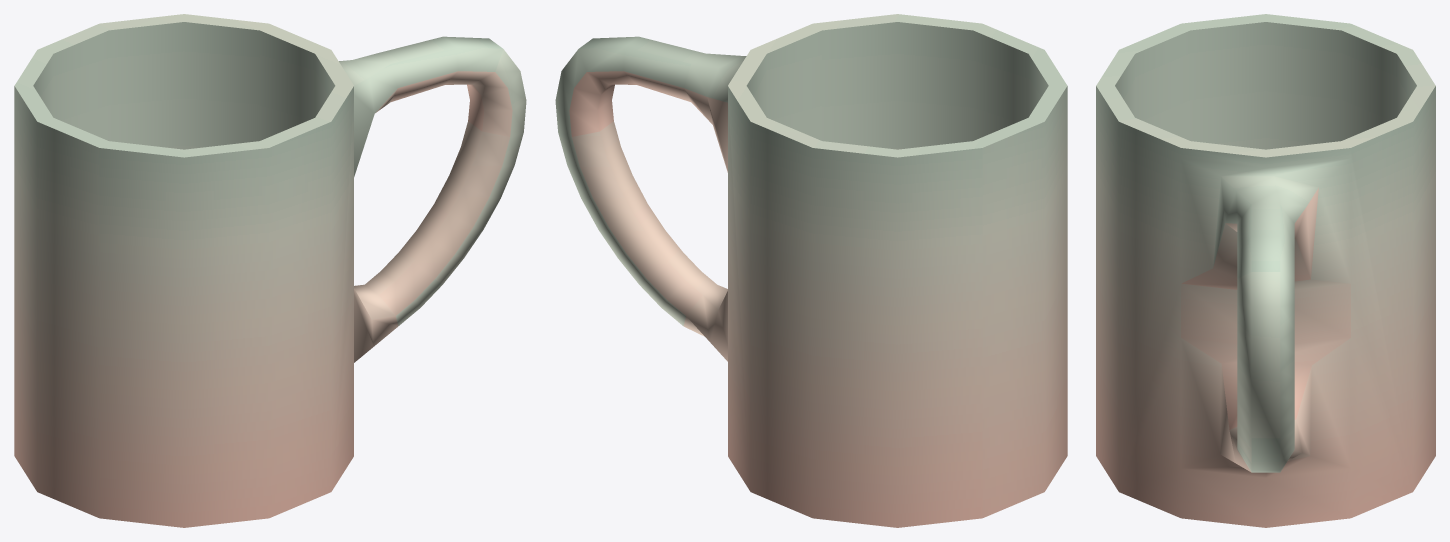
File: mug.glb
3 renders of one model, left to right at view 1: azimuth 30°, elevation 25°; view 2: azimuth 150°, elevation 25°; view 3: azimuth 270°, elevation 25°, orthographic.
Parts seen in each view (by area): view 1: Mug.001; view 2: Mug.001; view 3: Mug.001.
Part boxes in pixels (x1,y1,x2,y2): Mug.001: (14,14,526,527); Mug.001: (555,14,1067,527); Mug.001: (1096,14,1435,527).
Size of the model in its own units: 0.1703 by 0.125 by 0.1039.
1 material, 1 textured.
